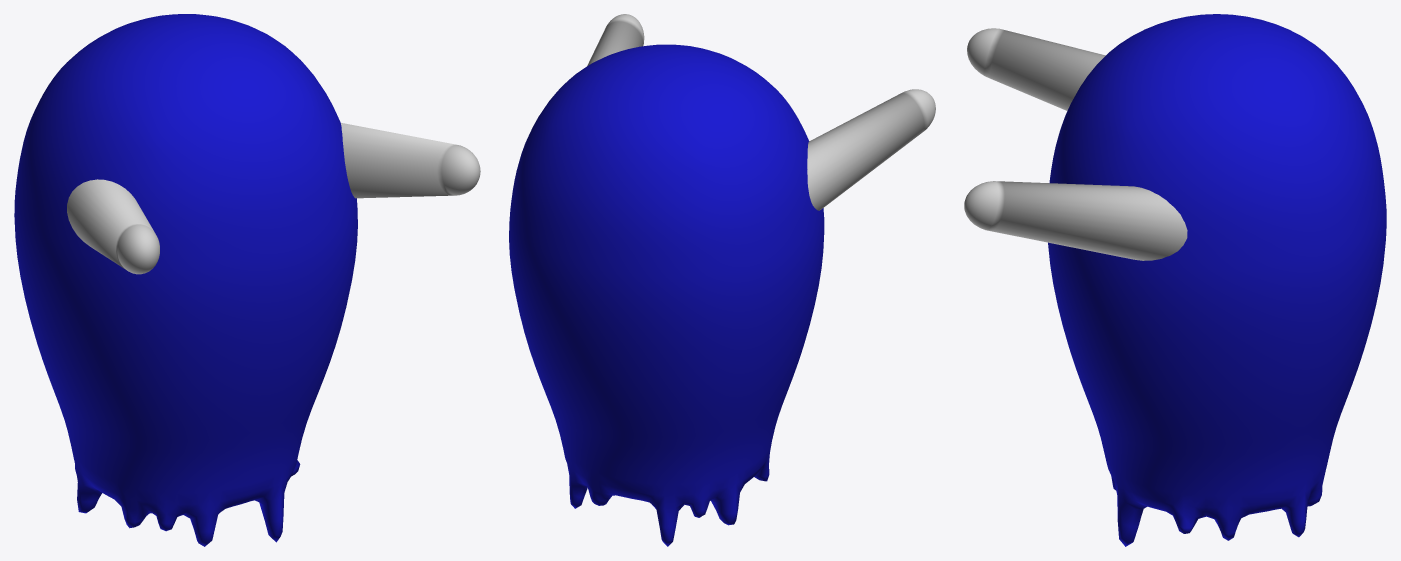
Rendered from afterThrow_000022.obj.
The picture shows the model from 3 angles, left to right: view 1: azimuth 30°, elevation 25°; view 2: azimuth 150°, elevation 25°; view 3: azimuth 270°, elevation 25°; orthographic projection. The views are drawn at different scales.
Visible parts, largest first — view 1: Cube, Sphere, Sphere.001; view 2: Cube, Sphere.001, Sphere; view 3: Cube, Sphere, Sphere.001.
Boxes of the visible parts, x1,y1,x2,y2 form: Cube: (14, 14, 357, 546); Sphere: (341, 123, 480, 198); Sphere.001: (67, 179, 159, 274); Cube: (509, 44, 824, 546); Sphere.001: (807, 89, 935, 210); Sphere: (587, 14, 644, 66); Cube: (1048, 14, 1386, 546); Sphere: (964, 181, 1187, 260); Sphere.001: (967, 28, 1105, 110).
Bounding box in the file's own units: 0.3468 × 0.4582 × 0.3554.
